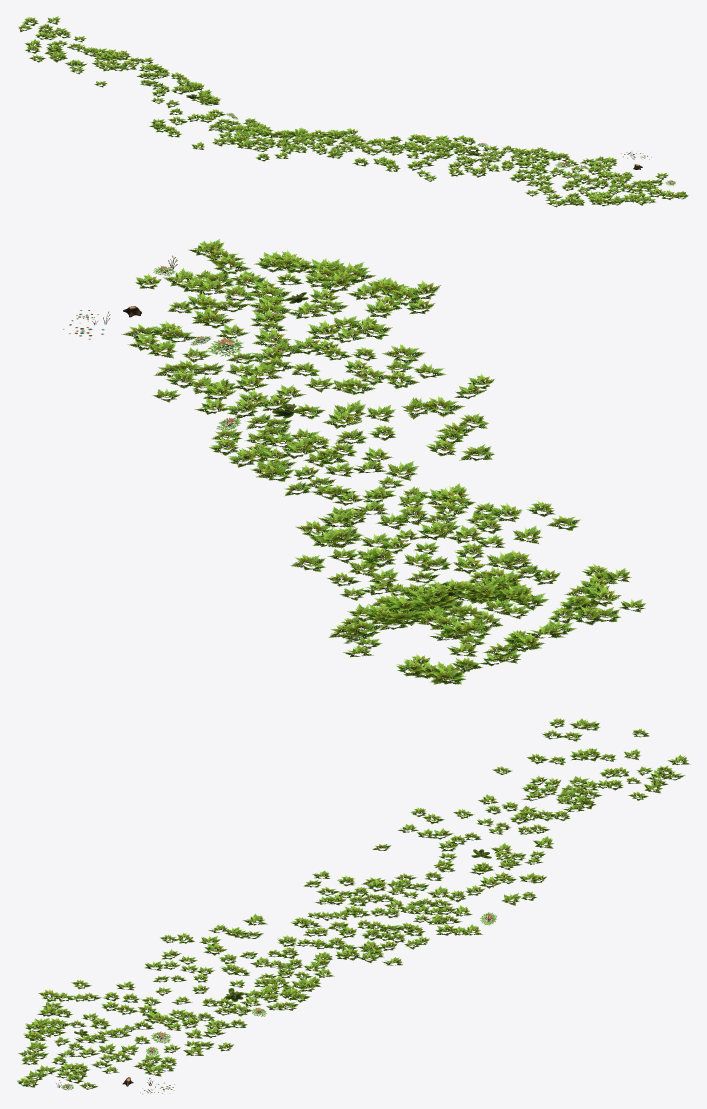
Rendered from Ferns_01.fbx.
The picture shows the model from 3 angles, top to bottom: view 1: azimuth 30°, elevation 25°; view 2: azimuth 150°, elevation 25°; view 3: azimuth 270°, elevation 25°; orthographic projection. The views are drawn at different scales.
Visible parts, largest first — view 1: Ferns_01; view 2: Ferns_01; view 3: Ferns_01.
Part boxes in pixels (x1=…): Ferns_01: x1=18, y1=16, x2=688, y2=207; Ferns_01: x1=62, y1=239, x2=646, y2=684; Ferns_01: x1=17, y1=717, x2=690, y2=1094.
Size of the model in its own units: 11896 by 2336 by 12524.
